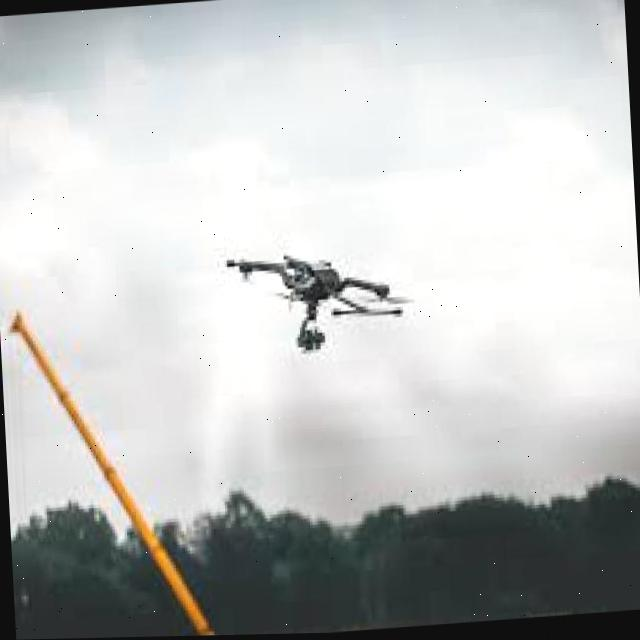drone: (215, 216, 419, 372)
